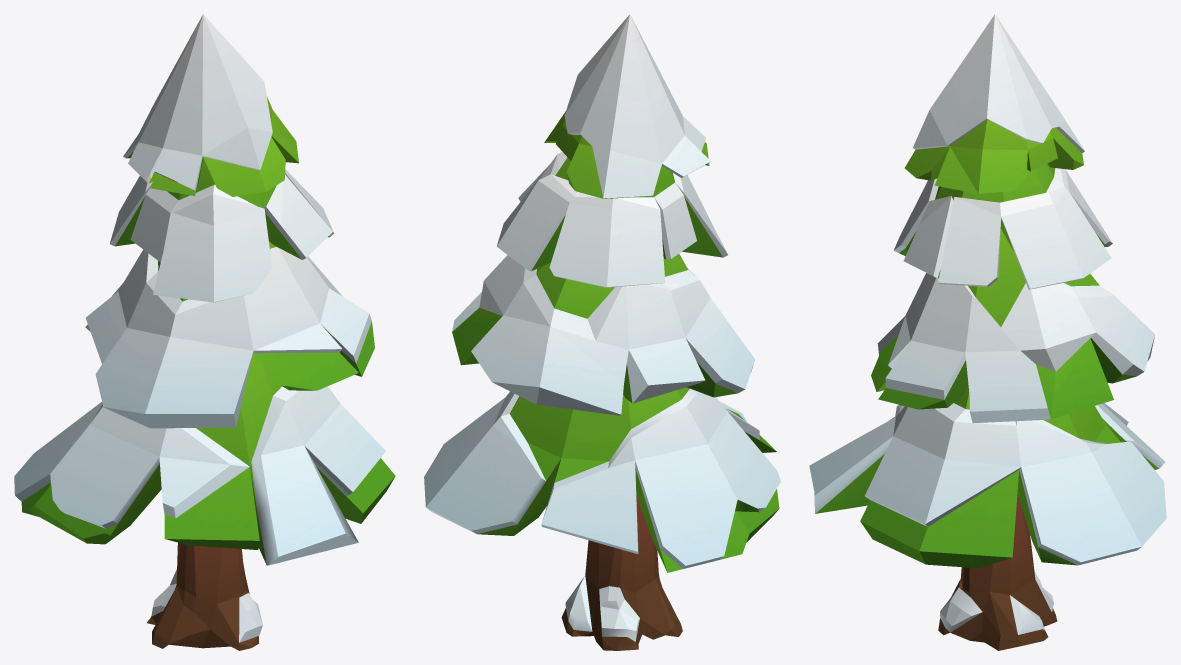
The picture shows the model from 3 angles, left to right: view 1: azimuth 30°, elevation 25°; view 2: azimuth 150°, elevation 25°; view 3: azimuth 270°, elevation 25°; orthographic projection.
Visible parts, largest first — view 1: SnowyTree; view 2: SnowyTree; view 3: SnowyTree.
Part boxes in pixels (x1,y1,x2,y2): SnowyTree: (14,14,395,650); SnowyTree: (424,14,780,650); SnowyTree: (809,14,1166,650).
Size of the model in its own units: 4.82 by 9.07 by 4.82.
Materials: 1 (1 with a texture image).
